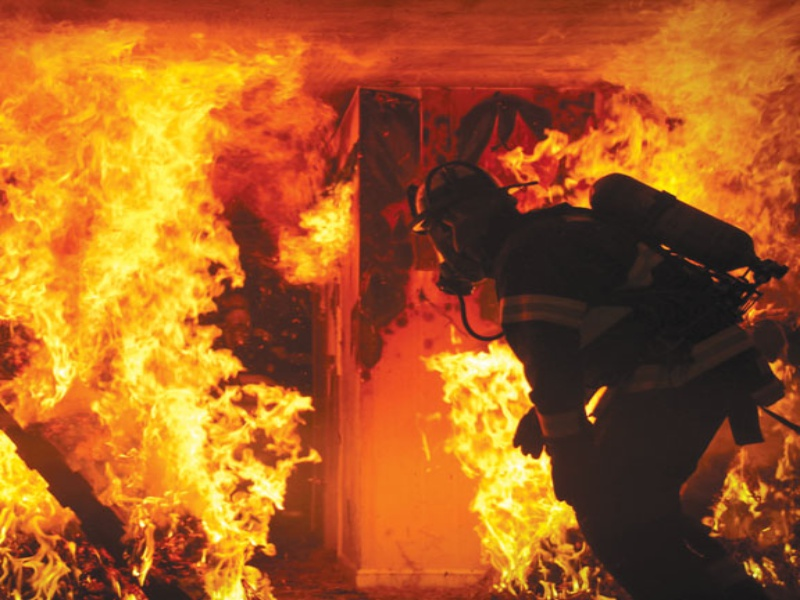fire: (1, 22, 293, 596), (412, 344, 558, 495), (433, 496, 575, 592), (716, 446, 800, 576), (503, 136, 631, 216), (294, 167, 359, 295)
